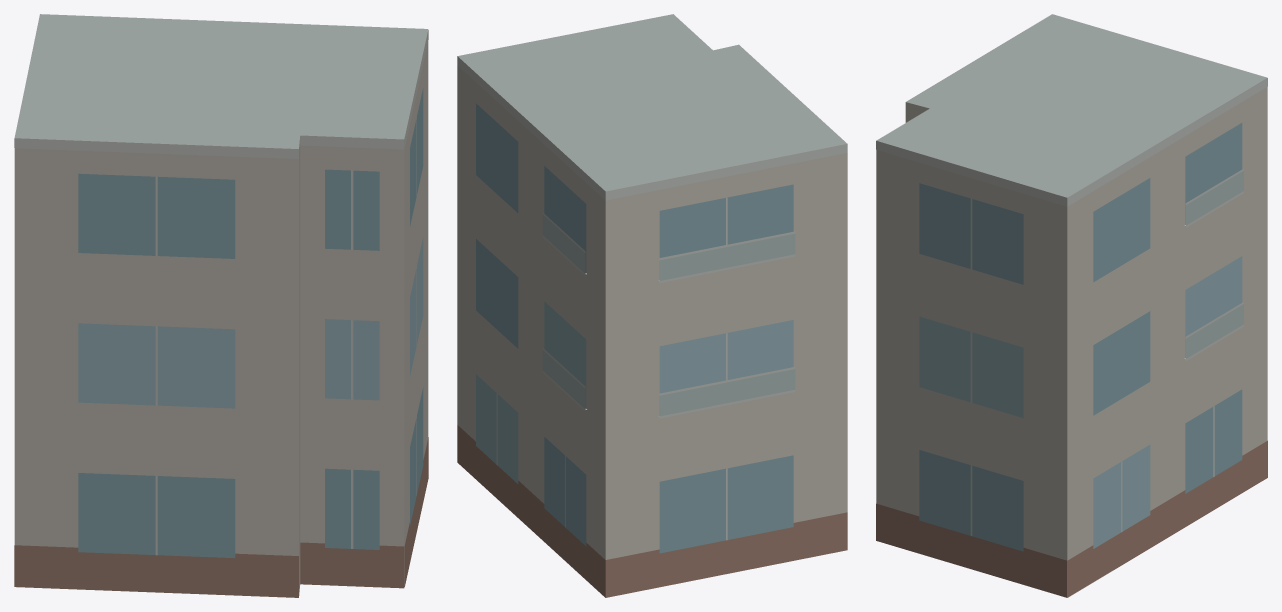
File: survey-upis-32501410.glb
3 renders of one model, left to right at view 1: azimuth 30°, elevation 25°; view 2: azimuth 150°, elevation 25°; view 3: azimuth 270°, elevation 25°, orthographic. The views are drawn at different scales.
Visible parts, largest first — view 1: survey-upis-32501410.tmp; view 2: survey-upis-32501410.tmp; view 3: survey-upis-32501410.tmp.
Boxes of the visible parts, x1,y1,x2,y2 form: survey-upis-32501410.tmp: (14,14,428,597); survey-upis-32501410.tmp: (457,14,847,597); survey-upis-32501410.tmp: (876,14,1267,597).
Bounding box in the file's own units: 10.85 × 11 × 9.77.
